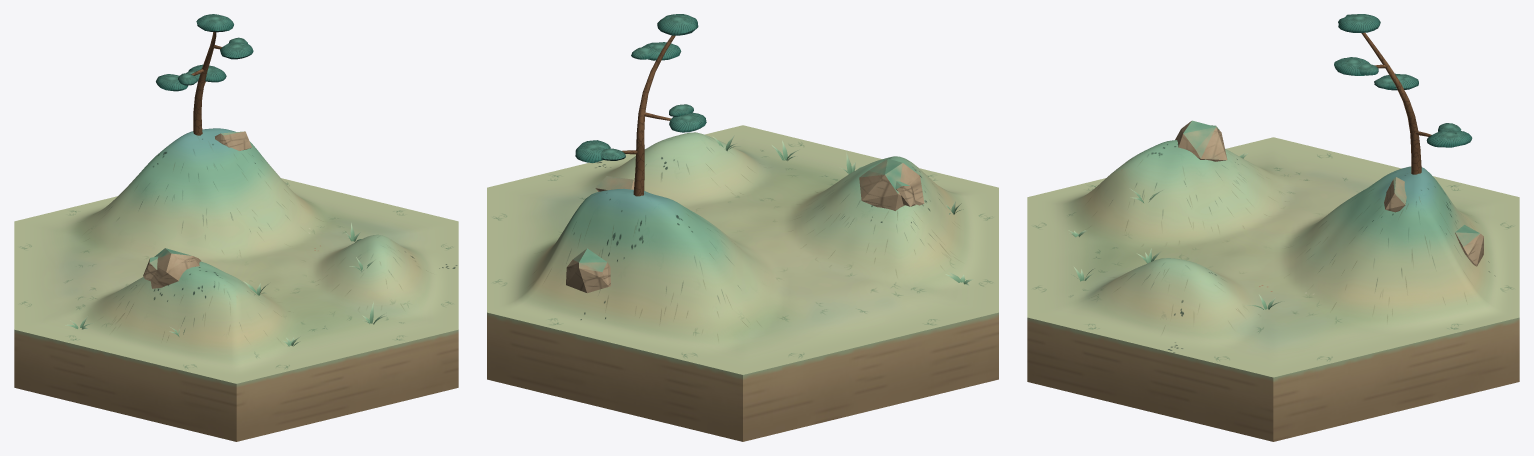
The model's file is Hex_Hill.glb.
3 renders of one model, left to right at view 1: azimuth 30°, elevation 25°; view 2: azimuth 150°, elevation 25°; view 3: azimuth 270°, elevation 25°, orthographic. The views are drawn at different scales.
Visible parts, largest first — view 1: Hex_Hill; view 2: Hex_Hill; view 3: Hex_Hill.
Part boxes in pixels (x1,y1,x2,y2): Hex_Hill: [14, 14, 458, 441]; Hex_Hill: [487, 14, 998, 441]; Hex_Hill: [1027, 14, 1519, 441].
Bounding box in the file's own units: 8 × 4.87 × 6.93.
Materials: 2 (2 with a texture image).
